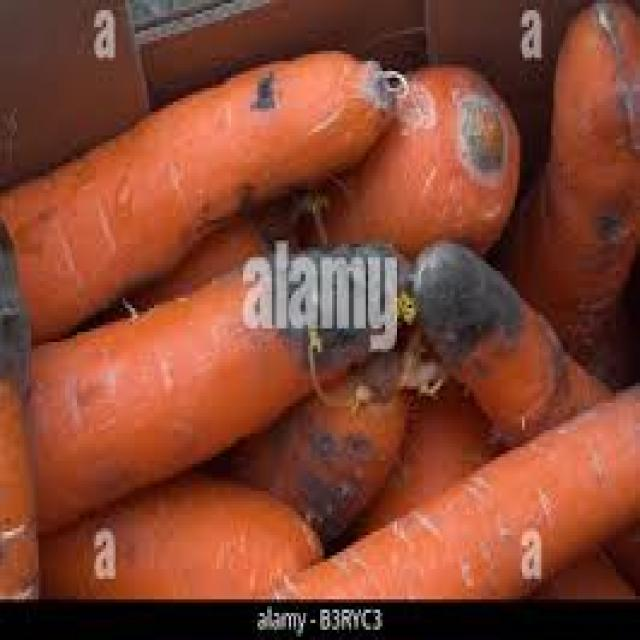Stale_Carrot: (31, 239, 562, 532), (0, 53, 395, 340), (531, 4, 640, 332), (231, 352, 408, 543), (415, 243, 568, 435)
